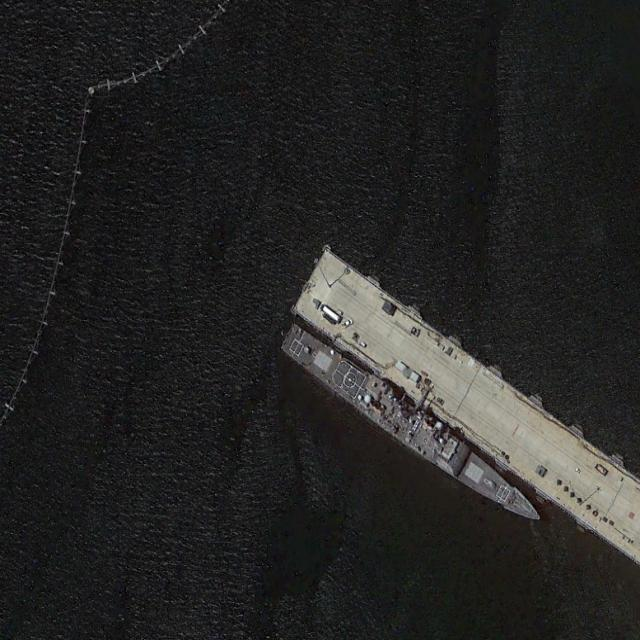Cruiser: (276, 316, 550, 536)
